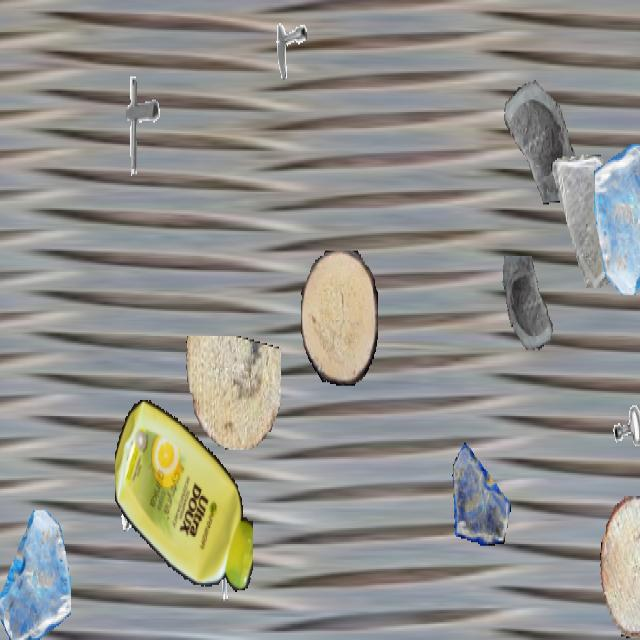glass: (494, 57, 576, 203), (550, 155, 624, 286), (0, 510, 70, 638), (594, 144, 640, 293), (499, 256, 561, 366), (452, 441, 510, 544)
metal: (108, 71, 168, 178), (599, 347, 640, 453), (115, 453, 161, 535), (207, 535, 251, 613), (265, 4, 307, 78)
plastic: (115, 393, 253, 599)
wood: (183, 336, 281, 450), (301, 250, 377, 386), (600, 496, 640, 638)
